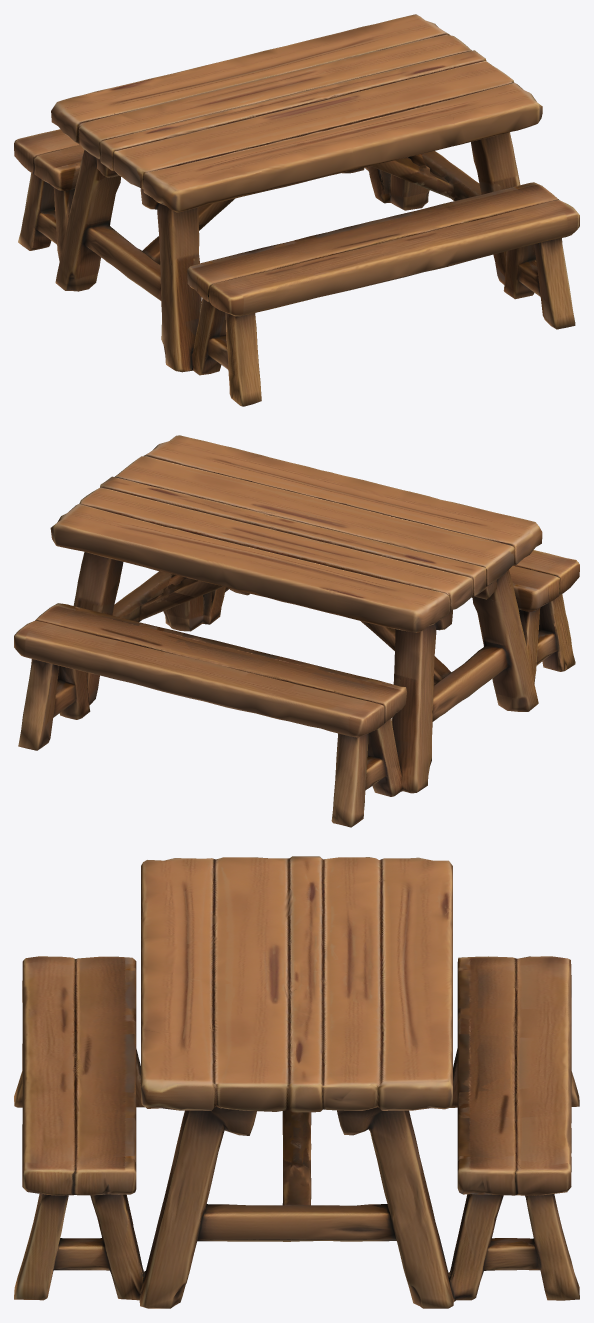
Rendered from rustic-table.normalized.glb.
3 renders of one model, top to bottom at view 1: azimuth 30°, elevation 25°; view 2: azimuth 150°, elevation 25°; view 3: azimuth 270°, elevation 25°, orthographic. The views are drawn at different scales.
Parts seen in each view (by area): view 1: meshy_cc0_rustic_table_mesh_00; view 2: meshy_cc0_rustic_table_mesh_00; view 3: meshy_cc0_rustic_table_mesh_00.
Boxes of the visible parts, x1,y1,x2,y2 form: meshy_cc0_rustic_table_mesh_00: [14, 14, 579, 406]; meshy_cc0_rustic_table_mesh_00: [14, 435, 579, 827]; meshy_cc0_rustic_table_mesh_00: [14, 856, 579, 1308].
Size of the model in its own units: 1.84 by 0.8525 by 1.92.
1 material, 1 textured.
